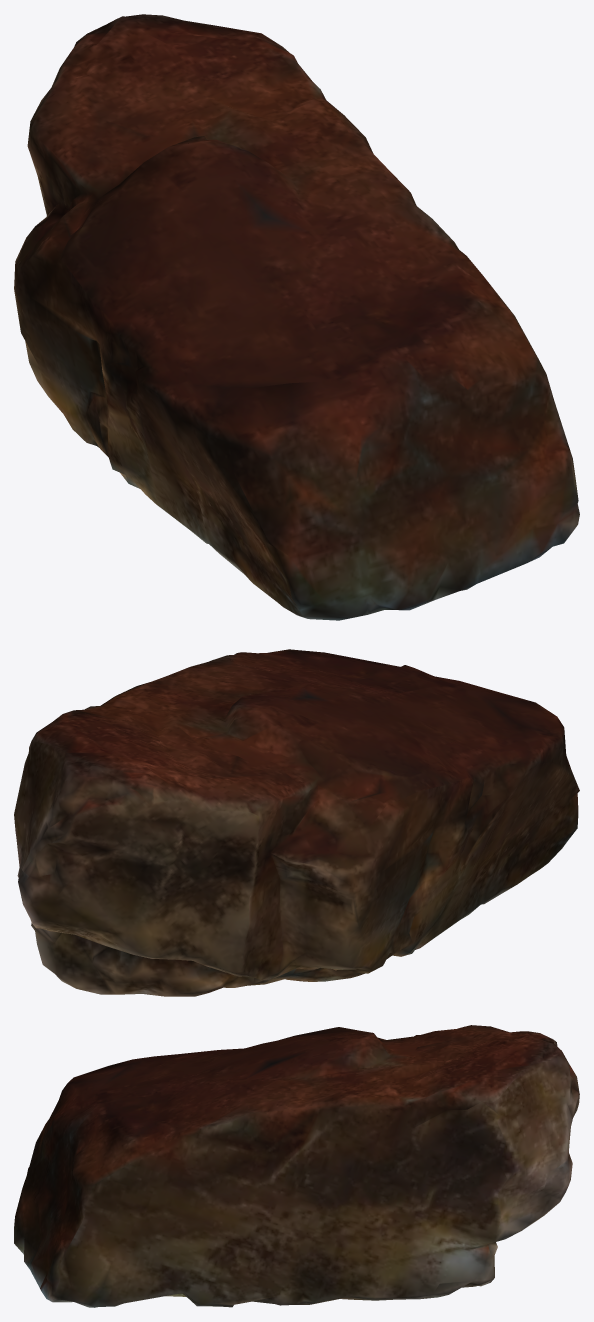
The model's file is rock-07.glb.
3 renders of one model, top to bottom at view 1: azimuth 30°, elevation 25°; view 2: azimuth 150°, elevation 25°; view 3: azimuth 270°, elevation 25°, orthographic. The views are drawn at different scales.
Parts seen in each view (by area): view 1: rock_07; view 2: rock_07; view 3: rock_07.
Boxes of the visible parts, box(x1,y1,x2,y2) form: rock_07: box(14, 14, 579, 620); rock_07: box(14, 649, 579, 996); rock_07: box(14, 1025, 579, 1307).
Size of the model in its own units: 0.1686 by 0.1434 by 0.3199.
Materials: 1 (1 with a texture image).
